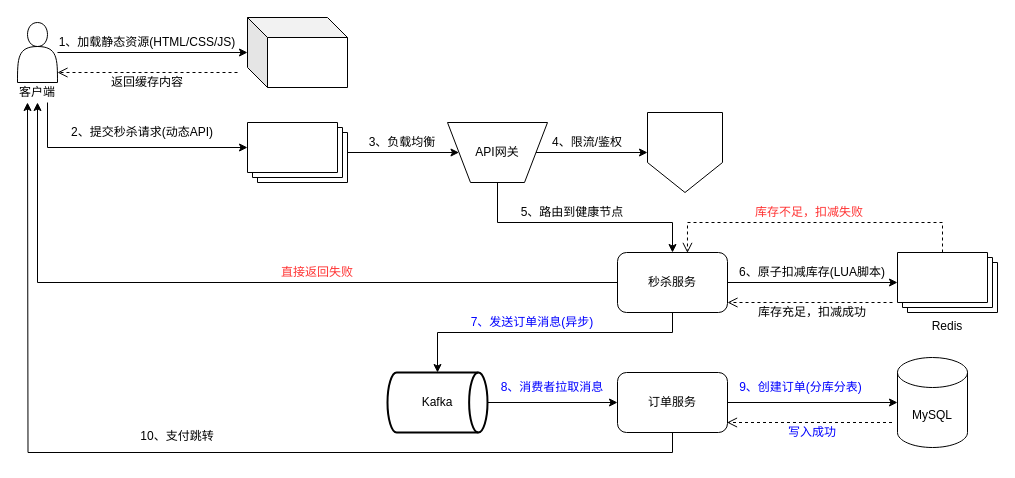
This 1015x478 diagram has some shape labels left out. The centre of each missing label's shape, as x and y in pixels:
CDN: the point at 297,52
SLB: the point at 297,152
熔断: the point at 684,152
